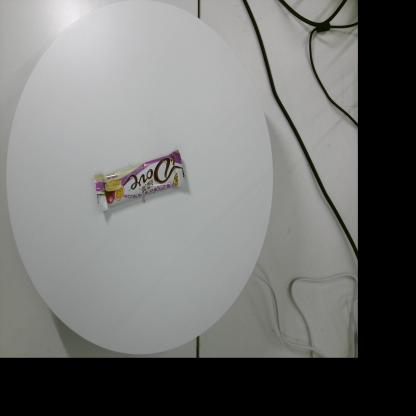Chocolate: (93, 150, 186, 212)
